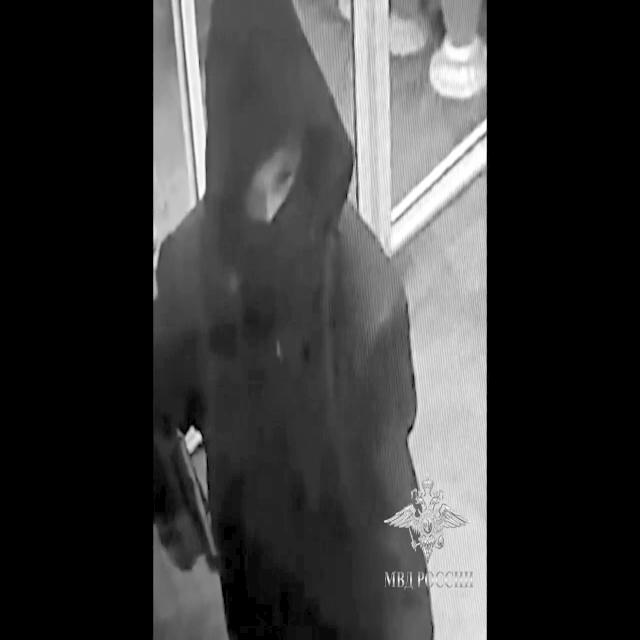gun: (159, 432, 217, 588)
person with a gun: (152, 0, 428, 638)
